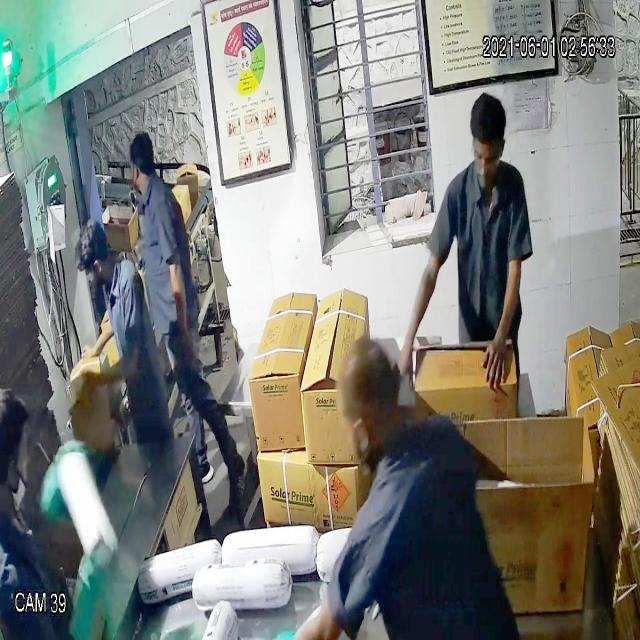glasses: (460, 137, 506, 176)
